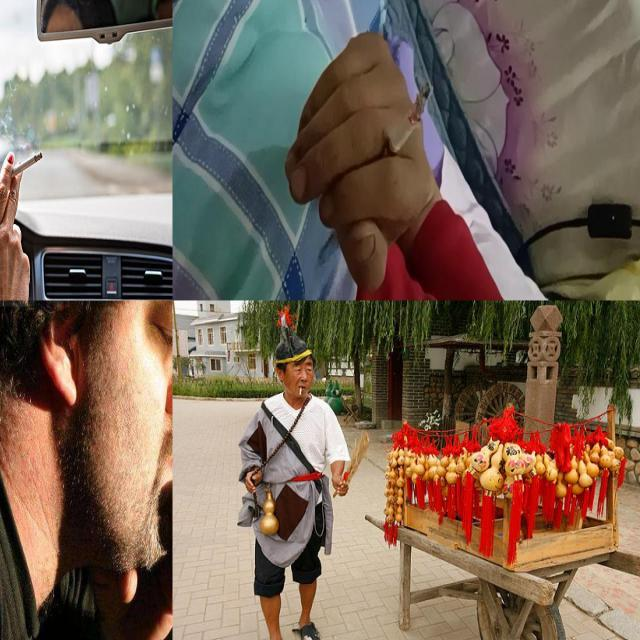cigarette: (381, 80, 434, 164), (2, 150, 44, 182), (299, 386, 302, 396)
